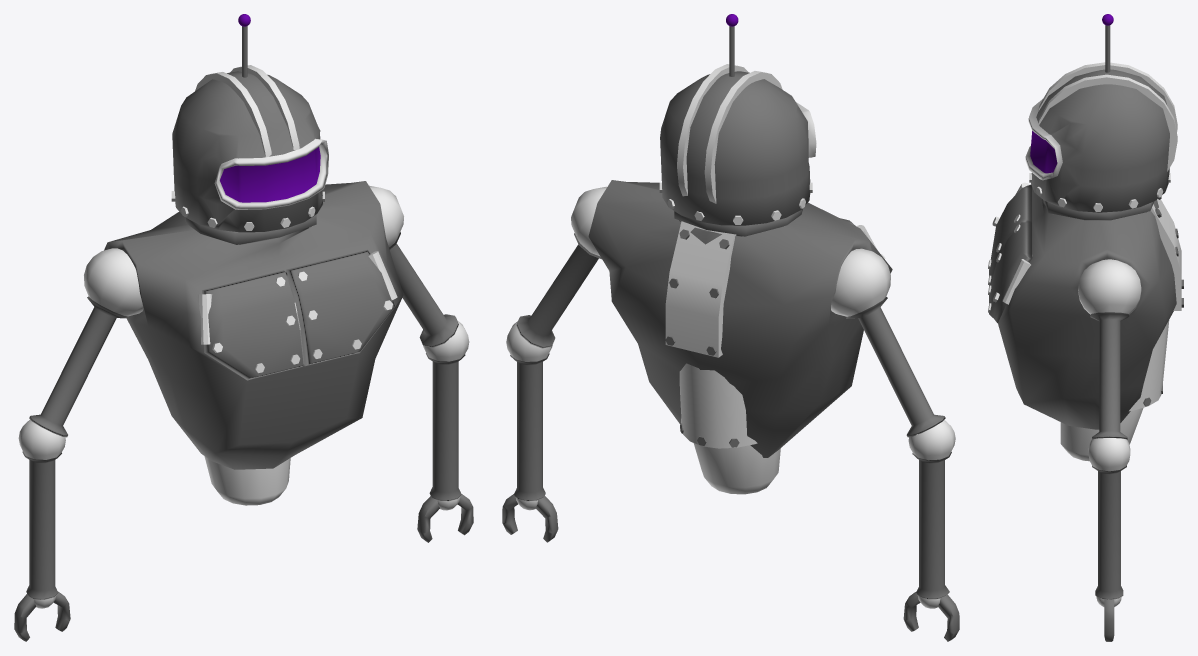
Rendered from SecurityModel.fbx.
3 renders of one model, left to right at view 1: azimuth 30°, elevation 25°; view 2: azimuth 150°, elevation 25°; view 3: azimuth 270°, elevation 25°, orthographic. The views are drawn at different scales.
Parts seen in each view (by area): view 1: polySurface39; view 2: polySurface39; view 3: polySurface39.
Boxes of the visible parts, x1,y1,x2,y2 form: polySurface39: [14, 14, 473, 641]; polySurface39: [502, 14, 959, 641]; polySurface39: [988, 14, 1183, 641].
Bounding box in the file's own units: 177 × 214 × 71.69.
